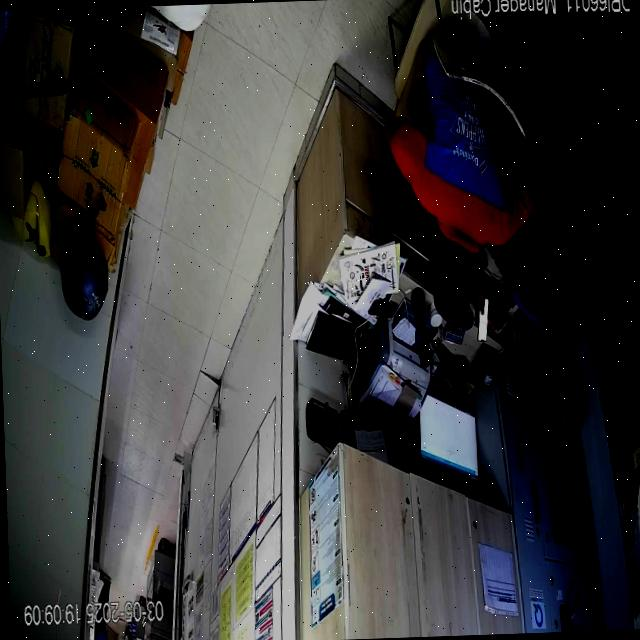helmet: (58, 219, 109, 320), (8, 180, 52, 256)
no_helmet: (432, 234, 478, 332), (513, 308, 547, 387)
